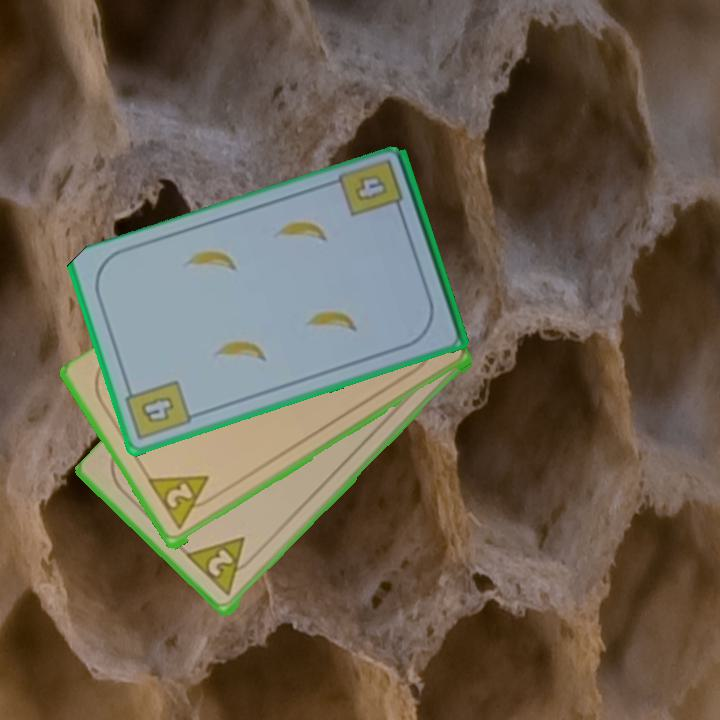2p: (184, 533, 260, 600), (145, 471, 221, 533)
4b: (121, 376, 194, 444), (354, 175, 387, 202)
